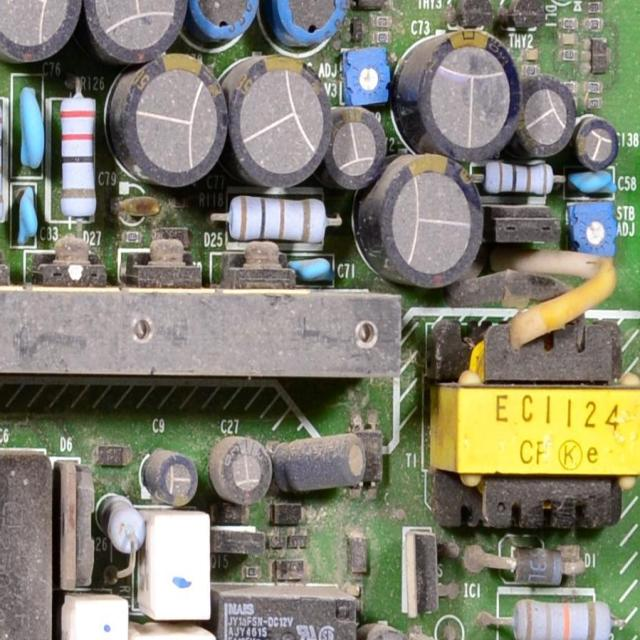capacitor: (124, 52, 223, 188), (413, 30, 508, 160), (226, 61, 328, 182), (385, 152, 481, 276), (79, 0, 185, 66), (518, 78, 586, 170), (321, 103, 385, 190), (286, 430, 368, 496), (0, 0, 80, 54), (212, 440, 272, 503), (14, 76, 52, 175), (147, 450, 200, 508), (578, 114, 620, 167), (566, 164, 620, 204), (13, 178, 40, 248), (289, 252, 334, 280), (365, 619, 418, 640), (422, 632, 449, 640)
resistor: (52, 88, 102, 226), (484, 592, 619, 640), (228, 187, 333, 245), (99, 490, 156, 560), (485, 158, 554, 202)
